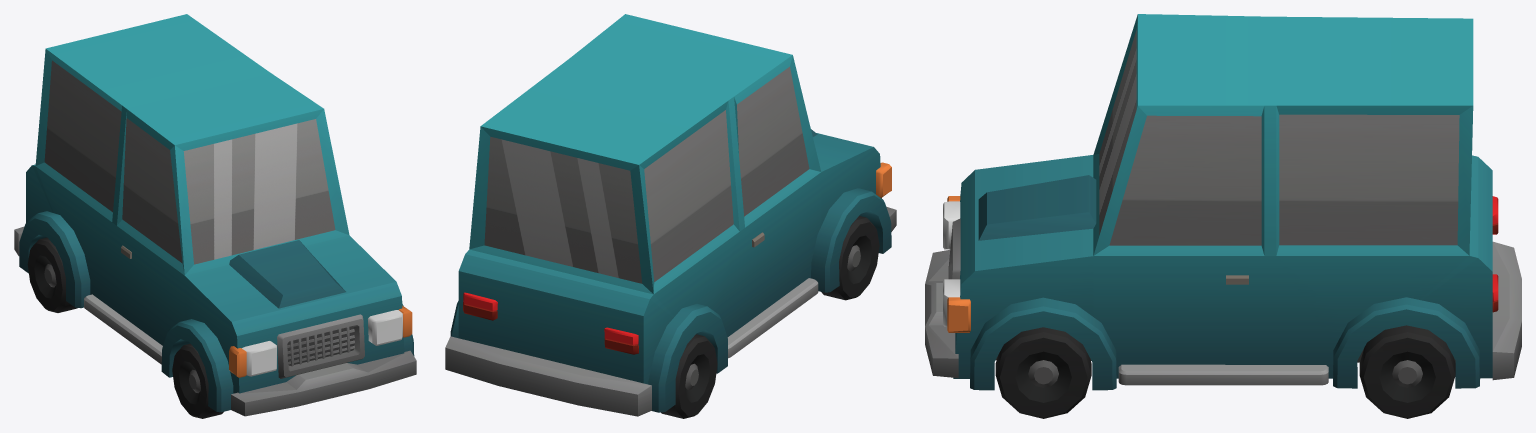
Rendered from Car_5_21.fbx.
3 renders of one model, left to right at view 1: azimuth 30°, elevation 25°; view 2: azimuth 150°, elevation 25°; view 3: azimuth 270°, elevation 25°, orthographic. The views are drawn at different scales.
Parts seen in each view (by area): view 1: Car_5_21, W_br, W_fr; view 2: Car_5_21, W_br, W_fr; view 3: Car_5_21, W_bl, W_fl.
Boxes of the visible parts, x1,y1,x2,y2 form: Car_5_21: (14, 14, 416, 416); W_br: (27, 237, 77, 312); W_fr: (172, 343, 223, 418); Car_5_21: (445, 14, 896, 416); W_br: (661, 334, 717, 418); W_fr: (821, 216, 879, 300); Car_5_21: (925, 14, 1521, 390); W_bl: (1359, 325, 1455, 418); W_fl: (995, 327, 1091, 418).
Size of the model in its own units: 113 by 130 by 233.
